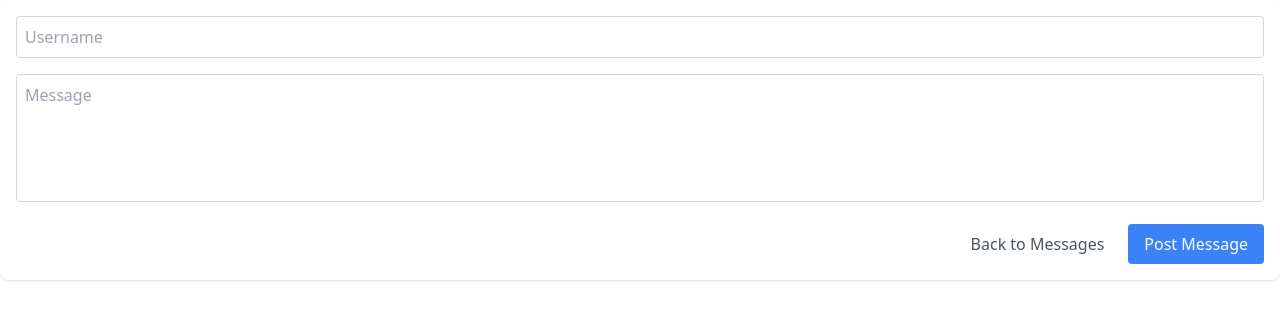
MessageForm › Message Validation › should prevent empty message submission with error message
Click the button "Post Message".
click(1196, 244)  # box [1128,224,1264,264]
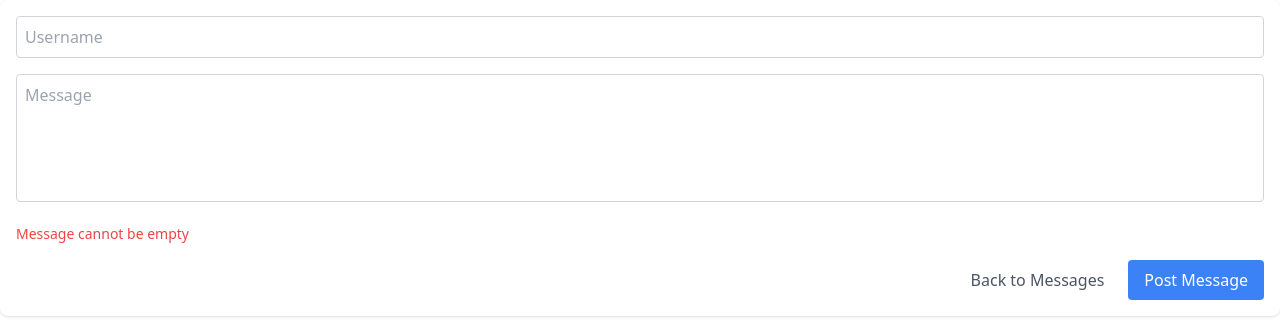
Result: the text "Message cannot be empty" is shown at [16,224,189,243]
